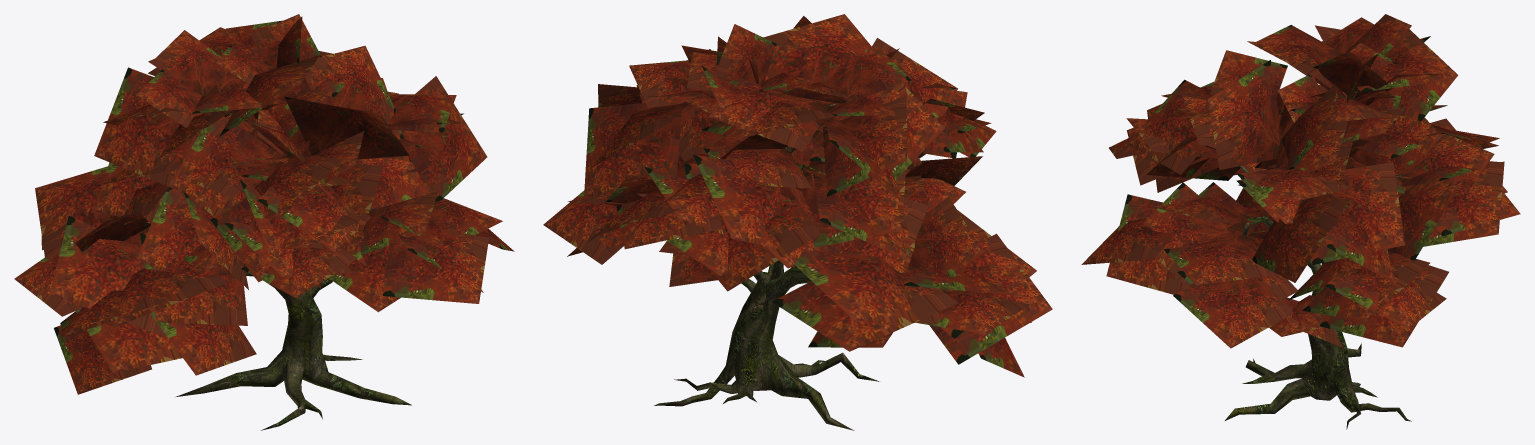
Rendered from TYS_tree02.FBX.
3 renders of one model, left to right at view 1: azimuth 30°, elevation 25°; view 2: azimuth 150°, elevation 25°; view 3: azimuth 270°, elevation 25°, orthographic. The views are drawn at different scales.
Parts seen in each view (by area): view 1: TYS_yezi02, TYS_tree02; view 2: TYS_yezi02, TYS_tree02; view 3: TYS_yezi02, TYS_tree02.
Boxes of the visible parts, left/top/right/bottom form: TYS_yezi02: left=14, top=14, right=514, bottom=394; TYS_tree02: left=107, top=112, right=411, bottom=430; TYS_yezi02: left=543, top=14, right=1052, bottom=377; TYS_tree02: left=654, top=104, right=947, bottom=430; TYS_yezi02: left=1081, top=14, right=1520, bottom=348; TYS_tree02: left=1225, top=89, right=1411, bottom=429.
Size of the model in its own units: 674 by 537 by 607.
